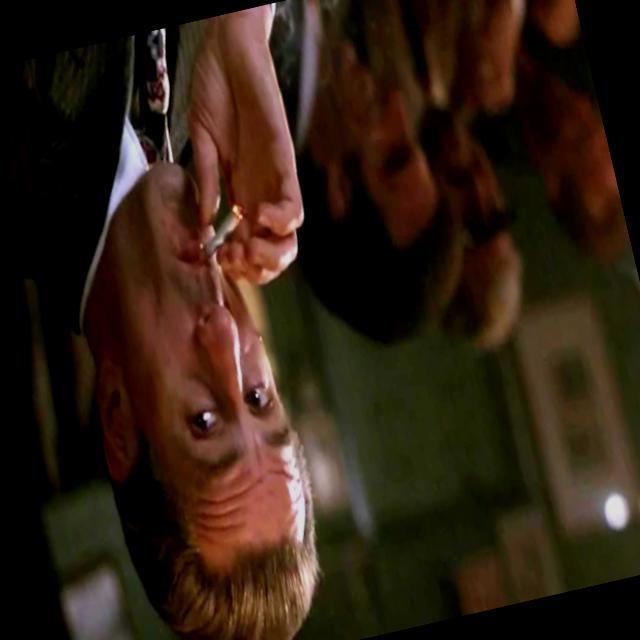cigarette: (176, 188, 268, 288)
